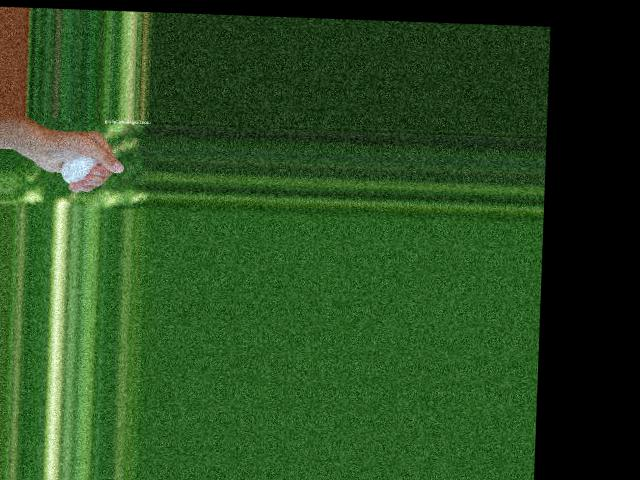egg: (61, 156, 99, 184)
